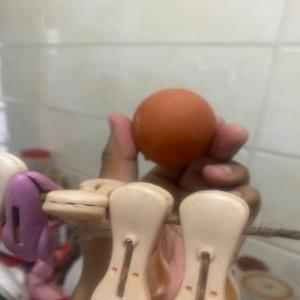egg: (130, 87, 218, 169)
